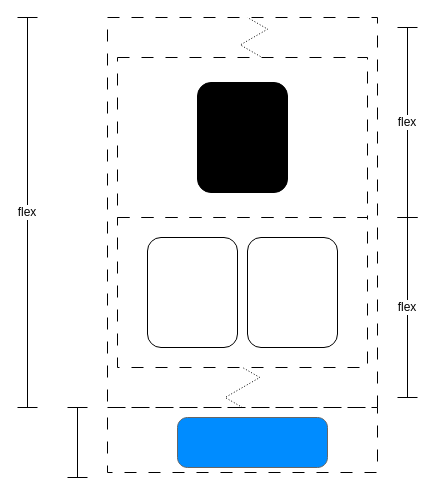
The diagram is 435 pixels wide and 495 high, and some of its shapes have lost their labels. Each missing label, with the box of its shape:
fixed: (66, 406, 88, 478)
Next: (176, 416, 328, 468)
